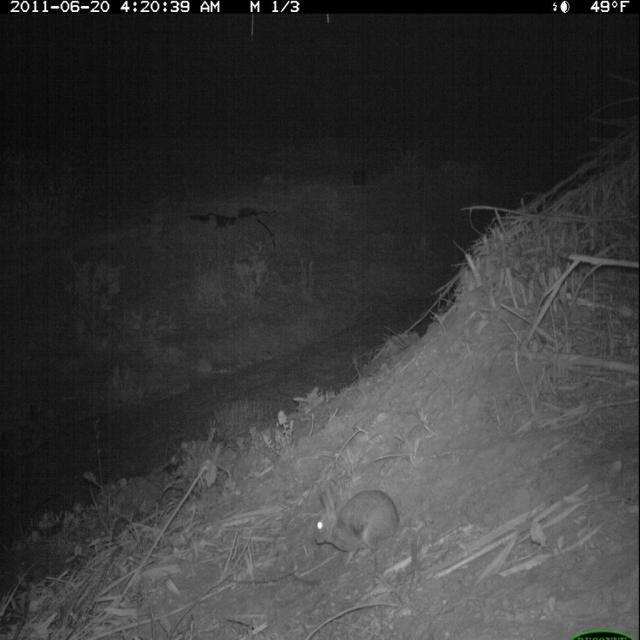rabbit: (312, 480, 402, 571)
